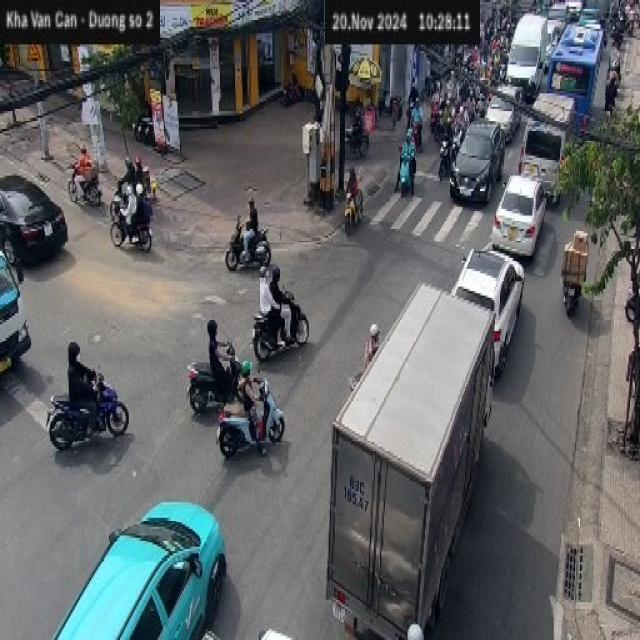car: (0, 169, 66, 258)
motorcycle: (44, 384, 129, 455), (218, 379, 287, 462), (188, 342, 245, 421), (251, 291, 312, 364), (224, 214, 273, 274), (69, 160, 104, 205), (342, 183, 368, 233)
person: (62, 339, 100, 402), (202, 319, 228, 369), (238, 358, 260, 416), (365, 319, 383, 365), (244, 193, 260, 238), (133, 181, 151, 220), (77, 137, 91, 184), (124, 182, 139, 225), (346, 162, 361, 199)
